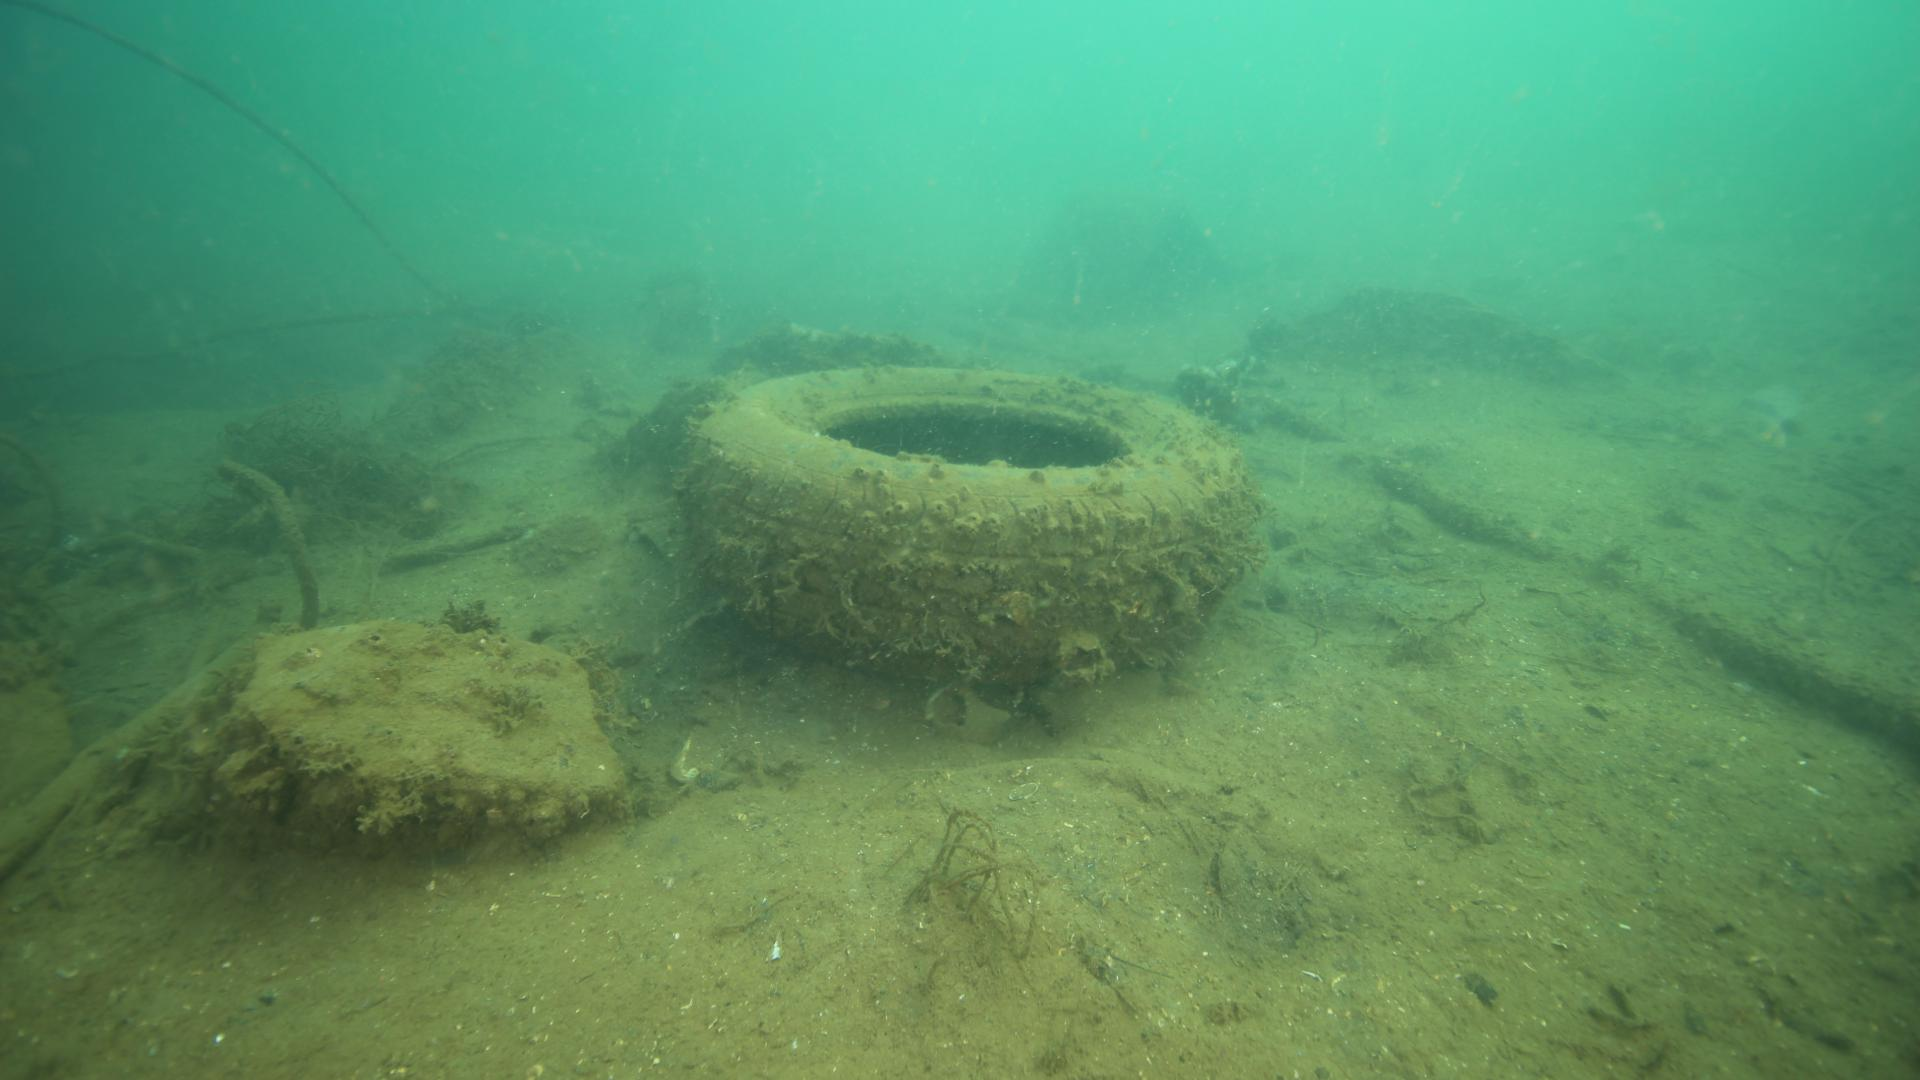tire: (679, 364, 1246, 676)
